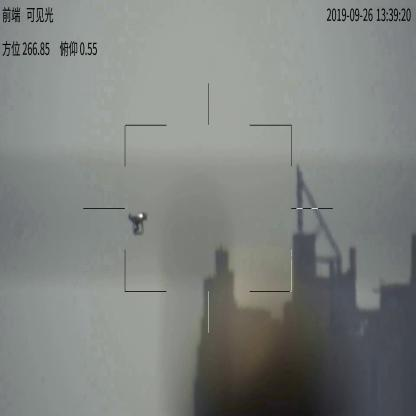uav: (126, 210, 150, 236)
